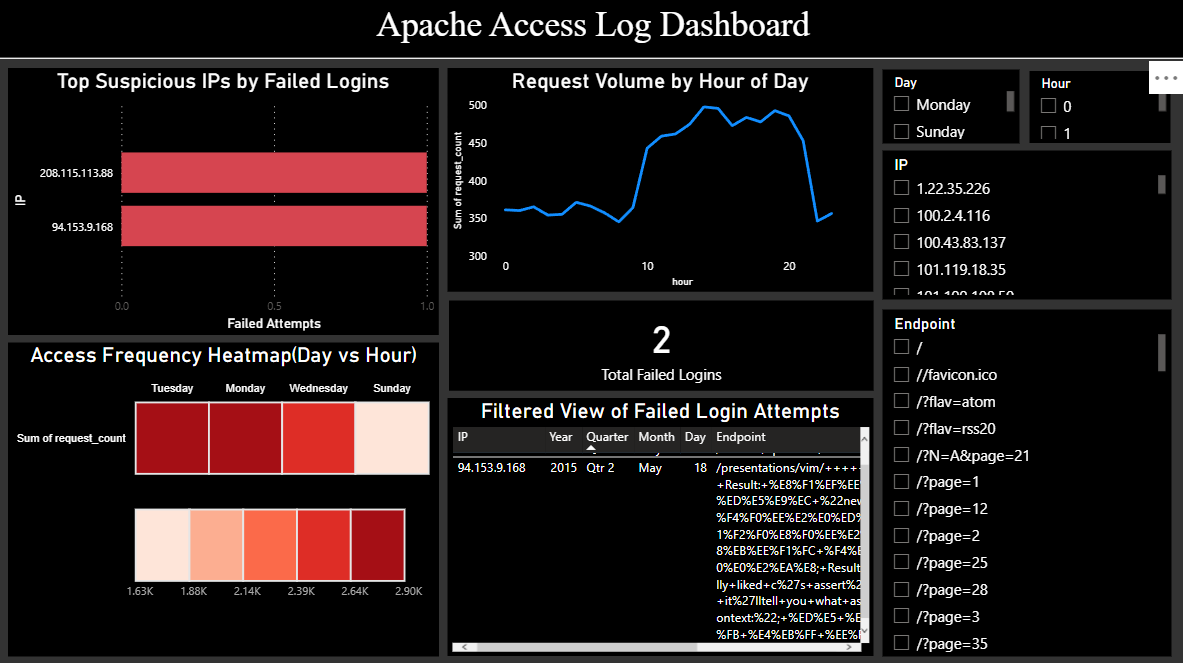

Layout of this report page (visuals, bound fields, positions):
{"tool":"powerbi","page":{"name":"Page 1","canvas":[1280,720],"ordinal":0},"visuals":[{"type":"clusteredBarChart","title":"Top Suspicious IPs by Failed Logins","fields":{"Category":["failed_logins_by_ip.ip"],"Y":["Sum(failed_logins_by_ip.failed_attempts)"]},"box":[9.7,74.4,464.4,288],"z":0},{"type":"lineChart","title":"Request Volume by Hour of Day","fields":{"Category":["hourly_requests.hour"],"Y":["Sum(hourly_requests.request_count)"]},"box":[483.8,74.4,459.5,241.1],"z":1000},{"type":"TableHeatMap1443716069308","title":"Access Frequency Heatmap(Day  vs Hour)","fields":{"Y":["Sum(hourly_day_requests.request_count)"],"Category":["hourly_day_requests.day"]},"box":[9.7,370.5,464.4,338.2],"z":2000},{"type":"tableEx","title":"Filtered View of Failed Login Attempts","fields":{"Values":["cleaned_apache_logs.ip","cleaned_apache_logs.time.Variation.Date Hierarchy.Year","cleaned_apache_logs.time.Variation.Date Hierarchy.Quarter","cleaned_apache_logs.time.Variation.Date Hierarchy.Month","cleaned_apache_logs.time.Variation.Date Hierarchy.Day","cleaned_apache_logs.endpoint"]},"box":[483.8,430.4,459.5,278.3],"z":3000},{"type":"card","fields":{"Values":["Sum(failed_logins_by_ip.failed_attempts)"]},"box":[485.4,325.2,457.9,97.1],"z":4000},{"type":"slicer","fields":{"Values":["cleaned_apache_logs.day"]},"box":[953,76,147.2,79.3],"z":5000},{"type":"slicer","fields":{"Values":["cleaned_apache_logs.hour"]},"box":[1111.6,77.7,152.1,77.7],"z":6000},{"type":"slicer","fields":{"Values":["cleaned_apache_logs.ip"]},"box":[953,163.4,310.7,160.2],"z":7000},{"type":"slicer","fields":{"Values":["cleaned_apache_logs.endpoint"]},"box":[953,334.9,310.7,373.8],"z":8000},{"type":"textbox","box":[0,0,1280,64],"z":9000}]}

Visuals, with their boxes in screenshot pixels (x1, y1, x2, y2), scaled from the page's 1280x720 canvas onto the 1183x663 screenshot:
"Top Suspicious IPs by Failed Logins" clusteredBarChart: [left=9, top=69, right=438, bottom=334]
"Request Volume by Hour of Day" lineChart: [left=447, top=69, right=872, bottom=291]
"Access Frequency Heatmap(Day  vs Hour)" TableHeatMap1443716069308: [left=9, top=341, right=438, bottom=653]
"Filtered View of Failed Login Attempts" tableEx: [left=447, top=396, right=872, bottom=653]
card - Sum(failed_logins_by_ip.failed_attempts): [left=449, top=299, right=872, bottom=389]
slicer - cleaned_apache_logs.day: [left=881, top=70, right=1017, bottom=143]
slicer - cleaned_apache_logs.hour: [left=1027, top=72, right=1168, bottom=143]
slicer - cleaned_apache_logs.ip: [left=881, top=150, right=1168, bottom=298]
slicer - cleaned_apache_logs.endpoint: [left=881, top=308, right=1168, bottom=653]
textbox: [left=0, top=0, right=1182, bottom=59]
